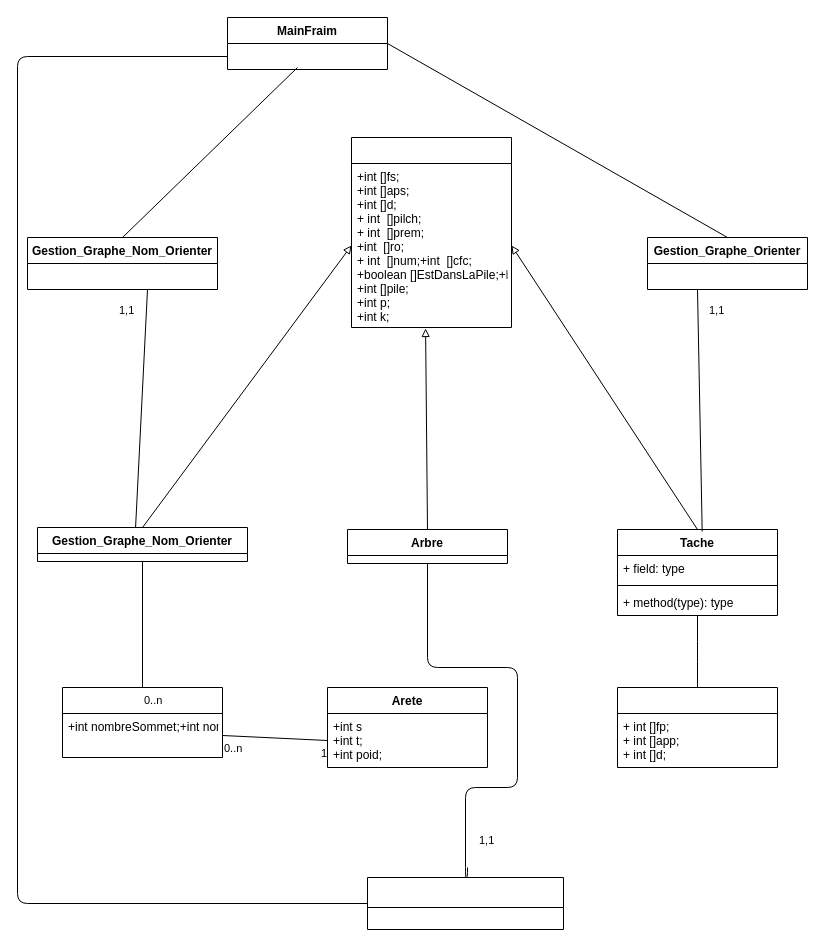
This 825x947 diagram has some shape labels left out. Each missing label, with the box of its shape:
FpAppD: (616, 686, 778, 768)
Gestion_Arbre: (366, 876, 564, 930)
Graphe_orienter_value: (350, 136, 512, 328)
GrapheKruskal: (62, 686, 222, 758)
